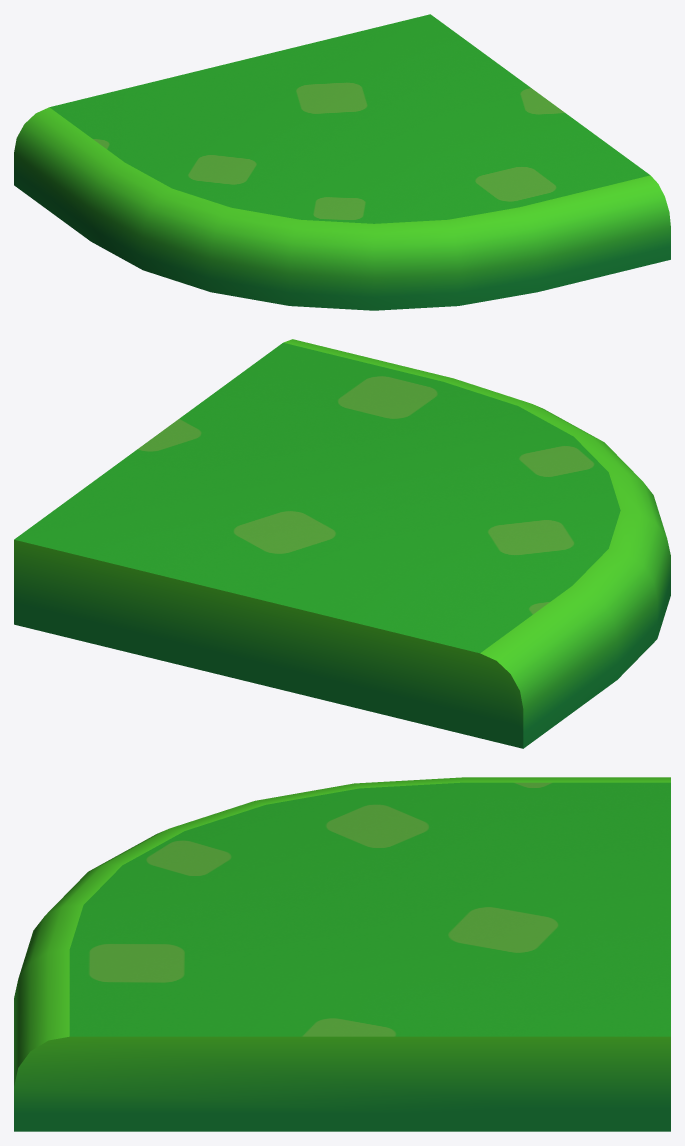
The model's file is GrassFloor_Corner_1.fbx.
3 views of the same model, one above another, from view 1: azimuth 30°, elevation 25°; view 2: azimuth 150°, elevation 25°; view 3: azimuth 270°, elevation 25° (orthographic). The views are drawn at different scales.
Parts seen in each view (by area): view 1: GrassFloor_Corner_1; view 2: GrassFloor_Corner_1; view 3: GrassFloor_Corner_1.
Part boxes in pixels (box(x1,y1,x2,y2)): GrassFloor_Corner_1: box(14, 14, 670, 310); GrassFloor_Corner_1: box(14, 339, 670, 748); GrassFloor_Corner_1: box(14, 777, 670, 1131).
Bounding box in the file's own units: 200 × 31.87 × 200.
